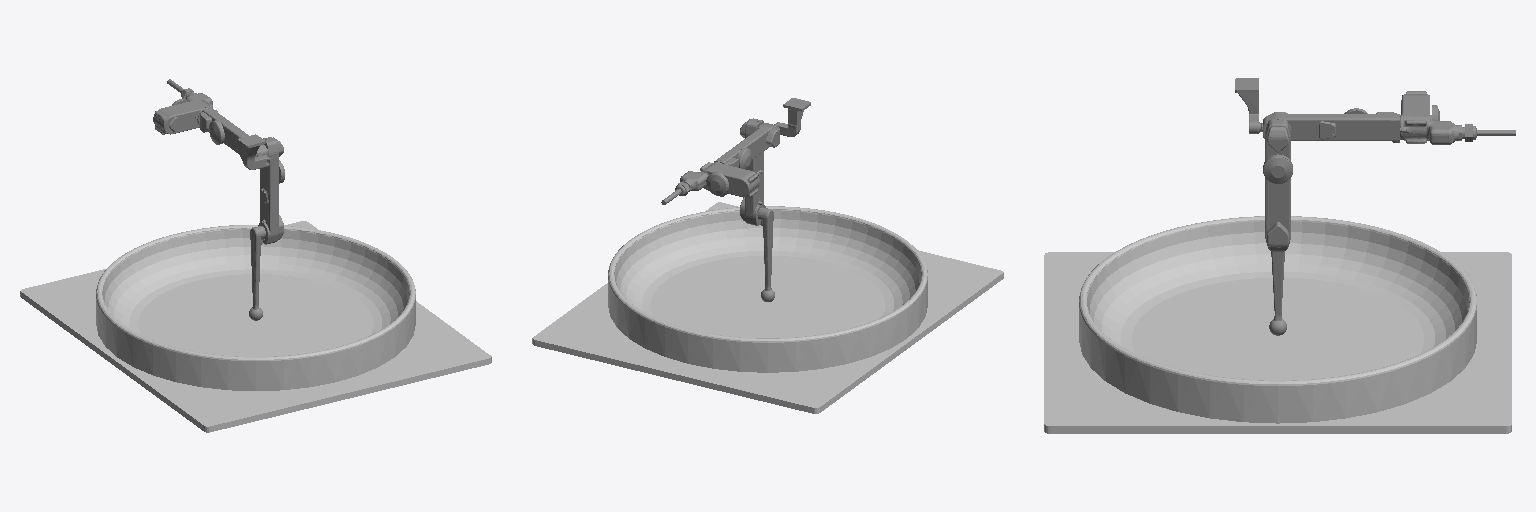
URDF robot description (finger_with_stage):
<?xml version="1.0" ?>
<!-- =================================================================================== -->
<!-- |    This document was autogenerated by xacro from robot_properties_fingers/xacro/finger_with_stage.urdf.xacro | -->
<!-- |    EDITING THIS FILE BY HAND IS NOT RECOMMENDED                                 | -->
<!-- =================================================================================== -->
<robot name="finger_with_stage">
  <!--
    Frames are defined such that they all align with the base frame when all
    joints are at position zero.

    In zero-configuration the origins of all joints are in one line.

    In zero-configuration the origin of the base link is exactly above the
    finger tip which should make it easy to place the finger in the world.
    -->
  <!--
    Frames are defined such that they all align with the base frame when all
    joints are at position zero.

    In zero-configuration the origins of all joints are in one line.

    In zero-configuration the origin of the base link is exactly above the
    finger tip which should make it easy to place the finger in the world.
    -->
  <material name="finger_material">
    <color rgba="0.6 0.6 0.6 1.0"/>
  </material>
  <!--
        Fixed links for the finger base (parts where the upper link is mounted).
        -->
  <link name="finger_base_link">
    <visual>
      <origin rpy="0 0 0" xyz="0 0.179 0"/>
      <geometry>
        <mesh filename="package://robot_properties_fingers/meshes/SIM__BL-Finger_Base.stl" scale="1 1 1"/>
      </geometry>
      <material name="finger_material"/>
    </visual>
    <collision>
      <origin rpy="0 0 0" xyz="0 0.179 0"/>
      <geometry>
        <mesh filename="package://robot_properties_fingers/meshes/SIM__BL-Finger_Base.stl" scale="1 1 1"/>
      </geometry>
    </collision>
    <inertial>
      <origin rpy="0 0 0" xyz="0 0 0"/>
      <mass value="1"/>
      <inertia ixx="0.00041666666666666675" ixy="0" ixz="0" iyy="0.00041666666666666675" iyz="0" izz="0.00041666666666666675"/>
    </inertial>
  </link>
  <!-- base_holder is added in case of single finger -->
  <link name="finger_upper_holder_link">
    <visual>
      <origin rpy="0 0 0" xyz="0 0 0"/>
      <geometry>
        <mesh filename="package://robot_properties_fingers/meshes/BL_Finger_Holder_SIM.stl" scale="1 1 1"/>
      </geometry>
      <material name="finger_material"/>
    </visual>
    <collision>
      <origin rpy="0 0 0" xyz="0 0 0"/>
      <geometry>
        <mesh filename="package://robot_properties_fingers/meshes/BL_Finger_Holder_SIM.stl" scale="1 1 1"/>
      </geometry>
    </collision>
    <!--
                  for some reason this link needs to have some inertia defined,
                  otherwise the model won't show up in gazebo
                -->
    <inertial>
      <origin rpy="0 0 0" xyz="0 0 0"/>
      <mass value="0.5"/>
      <inertia ixx="0.00020833333333333337" ixy="0" ixz="0" iyy="0.00020833333333333337" iyz="0" izz="0.00020833333333333337"/>
    </inertial>
  </link>
  <joint name="finger_base_to_holder" type="fixed">
    <parent link="finger_base_link"/>
    <child link="finger_upper_holder_link"/>
    <origin rpy="0 0 0" xyz="0 -0.02695 0"/>
  </joint>
  <!-- The movable links (upper, middle and lower) of the finger. -->
  <!-- TODO inertia parameters don't look correct, they cant be same for upper and middle! -->
  <link name="finger_upper_link">
    <visual>
      <origin rpy="0 0 0" xyz="0 -0.02695 0"/>
      <geometry>
        <mesh filename="package://robot_properties_fingers/meshes/SIM__BL-Finger_Proximal.stl" scale="1 1 1"/>
      </geometry>
      <material name="finger_material"/>
    </visual>
    <collision>
      <origin rpy="0 0 0" xyz="0 -0.02695 0"/>
      <geometry>
        <mesh filename="package://robot_properties_fingers/meshes/SIM__BL-Finger_Proximal.stl" scale="1 1 1"/>
      </geometry>
    </collision>
    <inertial>
      <origin rpy="0 0 0" xyz="0 0.06 0"/>
      <mass value="0.2"/>
      <inertia ixx="0.0003533333333333334" ixy="0" ixz="0" iyy="5.333333333333333e-05" iyz="0" izz="0.0003533333333333334"/>
    </inertial>
  </link>
  <link name="finger_middle_link">
    <visual>
      <origin rpy="1.5707963267948966 0 0" xyz="0.014 0 0"/>
      <geometry>
        <mesh filename="package://robot_properties_fingers/meshes/SIM__BL-Finger_Intermediate.stl" scale="1 1 1"/>
      </geometry>
      <material name="finger_material"/>
    </visual>
    <collision>
      <origin rpy="1.5707963267948966 0 0" xyz="0.014 0 0"/>
      <geometry>
        <mesh filename="package://robot_properties_fingers/meshes/SIM__BL-Finger_Intermediate.stl" scale="1 1 1"/>
      </geometry>
    </collision>
    <inertial>
      <origin rpy="0 0 0" xyz="0.028 0 -0.08"/>
      <mass value="0.2"/>
      <inertia ixx="0.0003533333333333334" ixy="0" ixz="0" iyy="0.0003533333333333334" iyz="0" izz="5.333333333333333e-05"/>
    </inertial>
  </link>
  <link name="finger_lower_link">
    <visual>
      <origin rpy="1.5707963267948966 0 0" xyz="0.014 0 0"/>
      <geometry>
        <mesh filename="package://robot_properties_fingers/meshes/SIM_BL_FINGER_TIP_LINK.stl" scale="1 1 1"/>
      </geometry>
      <material name="finger_material"/>
    </visual>
    <collision>
      <origin rpy="1.5707963267948966 0 0" xyz="0.014 0 0"/>
      <geometry>
        <mesh filename="package://robot_properties_fingers/meshes/SIM_BL_FINGER_TIP_LINK.stl" scale="1 1 1"/>
      </geometry>
    </collision>
    <visual>
      <origin rpy="0 0 0" xyz="0 0 -0.16"/>
      <geometry>
        <mesh filename="package://robot_properties_fingers/meshes/finger_padding.stl" scale="1 1 1"/>
      </geometry>
      <material name="finger_material"/>
    </visual>
    <collision>
      <origin rpy="0 0 0" xyz="0 0 -0.16"/>
      <geometry>
        <mesh filename="package://robot_properties_fingers/meshes/finger_padding.stl" scale="1 1 1"/>
      </geometry>
    </collision>
    <inertial>
      <origin rpy="0 0 0" xyz="0 0 -0.06"/>
      <mass value="0.01"/>
      <inertia ixx="1.6666666666666667e-05" ixy="0" ixz="0" iyy="1.6666666666666667e-05" iyz="0" izz="6.666666666666667e-07"/>
    </inertial>
  </link>
  <!-- fixed link for finger tip -->
  <link name="finger_tip_link">
    <inertial>
      <origin rpy="0 0 0" xyz="0 0 0"/>
      <mass value="0.002"/>
      <inertia ixx="3.3333333333333334e-08" ixy="0" ixz="0" iyy="3.3333333333333334e-08" iyz="0" izz="3.3333333333333334e-08"/>
    </inertial>
  </link>
  <joint name="finger_lower_to_tip_joint" type="fixed">
    <parent link="finger_lower_link"/>
    <child link="finger_tip_link"/>
    <origin xyz="0 0 -0.16"/>
  </joint>
  <!-- kinematics -->
  <!-- TODO: joint limits are based on values from wiki
        (https://atlas.is.localnet/confluence/display/AMDW/Forward+Kinematics) but
        should be verified on the real system (especially the finger tip limits look
        a bit too big when visualizing the model. -->
  <joint name="finger_base_to_upper_joint" type="revolute">
    <parent link="finger_base_link"/>
    <child link="finger_upper_link"/>
    <limit effort="1000" lower="-1.5707963267948966" upper="1.5707963267948966" velocity="1000"/>
    <axis xyz="0 1 0"/>
    <origin rpy="0 0 0" xyz="0 0 0"/>
  </joint>
  <joint name="finger_upper_to_middle_joint" type="revolute">
    <parent link="finger_upper_link"/>
    <child link="finger_middle_link"/>
    <limit effort="1000" lower="-1.3526301702956054" upper="4.494222823885399" velocity="1000"/>
    <axis xyz="-1 0 0"/>
    <origin rpy="0 0 0" xyz="0 0 0"/>
  </joint>
  <joint name="finger_middle_to_lower_joint" type="revolute">
    <parent link="finger_middle_link"/>
    <child link="finger_lower_link"/>
    <limit effort="1000" lower="-3.001966313430247" upper="3.001966313430247" velocity="1000"/>
    <axis xyz="1 0 0"/>
    <origin rpy="0 0 0" xyz="0 0 -0.16"/>
  </joint>
  <!--
    Define the global base link and place the finger relative to it.
    -->
  <link name="base_link">
    <inertial>
      <origin rpy="0 0 0" xyz="0 0 0"/>
      <mass value="1"/>
      <inertia ixx="4.166666666666667e-06" ixy="0" ixz="0" iyy="4.166666666666667e-06" iyz="0" izz="4.166666666666667e-06"/>
    </inertial>
  </link>
  <joint name="base_to_finger" type="fixed">
    <parent link="base_link"/>
    <child link="finger_base_link"/>
    <origin xyz="0 0 0.34"/>
  </joint>
  <material name="stage_material">
    <color rgba="0.8 0.8 0.8 1.0"/>
  </material>
  <!-- add the "stage" -->
  <link name="stage_link">
    <visual>
      <origin rpy="0 0 0" xyz="0 0 0"/>
      <geometry>
        <mesh filename="package://robot_properties_fingers/meshes/Stage_simplified.stl" scale="1 1 1"/>
      </geometry>
      <material name="stage_material"/>
    </visual>
    <collision>
      <origin rpy="0 0 0" xyz="0 0 0"/>
      <geometry>
        <mesh filename="package://robot_properties_fingers/meshes/Stage_simplified.stl" scale="1 1 1"/>
      </geometry>
    </collision>
    <inertial>
      <origin rpy="0 0 0" xyz="0 0 0"/>
      <mass value="1"/>
      <inertia ixx="0.007708333333333333" ixy="0" ixz="0" iyy="0.007708333333333333" iyz="0" izz="0.015"/>
    </inertial>
  </link>
  <!-- Place the stage relative to the global base link. -->
  <joint name="base_to_stage" type="fixed">
    <parent link="base_link"/>
    <child link="stage_link"/>
    <origin xyz="0 0 0"/>
  </joint>
</robot>

--- Render facts (derived) ---
3 views of the same robot in one strip: view 1: azimuth 30°, elevation 25°; view 2: azimuth 150°, elevation 25°; view 3: azimuth 270°, elevation 25° (orthographic).
Model finger_with_stage with 8 links and 7 joints (3 revolute, 4 fixed), rooted at base_link, posed all joints at 0.
Links seen in each view (by area): view 1: stage_link, finger_middle_link, finger_base_link, finger_upper_link, finger_lower_link, finger_upper_holder_link; view 2: stage_link, finger_base_link, finger_upper_link, finger_middle_link, finger_lower_link, finger_upper_holder_link; view 3: stage_link, finger_middle_link, finger_upper_link, finger_base_link, finger_lower_link, finger_upper_holder_link.
Boxes of the visible links, x1,y1,x2,y2 form: stage_link: [20, 221, 491, 432]; finger_middle_link: [258, 137, 284, 244]; finger_base_link: [153, 79, 217, 134]; finger_upper_link: [200, 108, 268, 160]; finger_lower_link: [249, 226, 265, 320]; finger_upper_holder_link: [237, 134, 271, 169]; stage_link: [532, 202, 1003, 413]; finger_base_link: [661, 162, 759, 204]; finger_upper_link: [714, 123, 779, 169]; finger_middle_link: [740, 118, 765, 225]; finger_lower_link: [758, 207, 774, 301]; finger_upper_holder_link: [774, 98, 810, 136]; stage_link: [1044, 216, 1511, 433]; finger_middle_link: [1263, 119, 1292, 251]; finger_upper_link: [1260, 108, 1399, 142]; finger_base_link: [1400, 91, 1515, 144]; finger_lower_link: [1269, 251, 1286, 335]; finger_upper_holder_link: [1235, 78, 1259, 133].
Size in the robot's own frame: 0.6 by 0.6854 by 0.4056 metres.
7 mesh visuals loaded from 7 distinct referenced files (7 binary STL).
